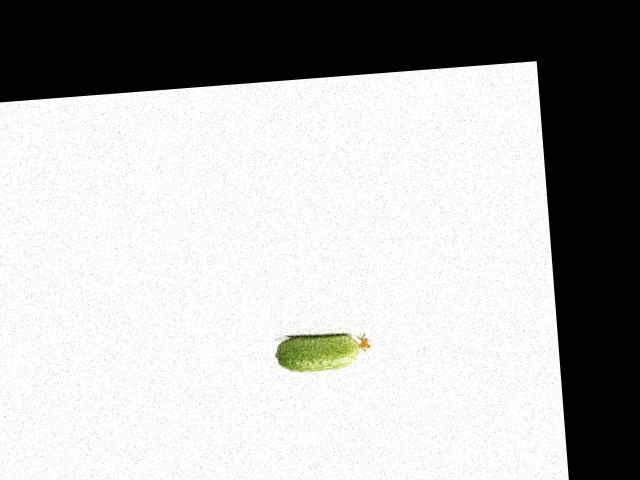cucumber: (272, 330, 371, 374)
